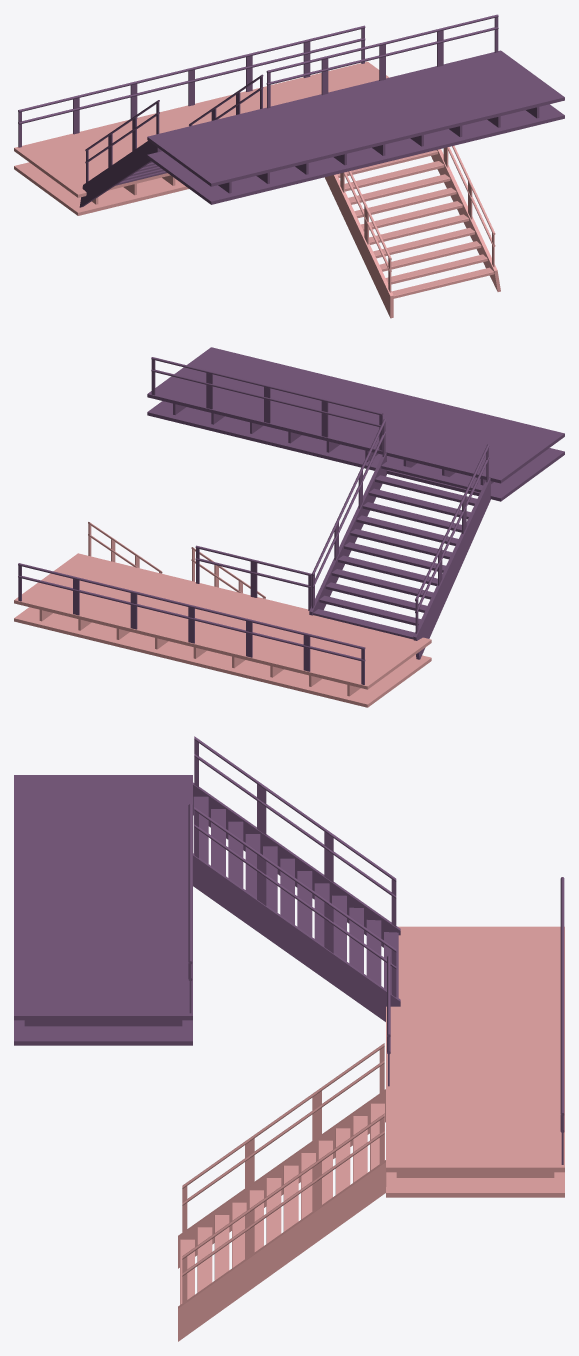
The model's file is meshset_bridge_nearwall.fbx.
3 views of the same model, one above another, from view 1: azimuth 30°, elevation 25°; view 2: azimuth 150°, elevation 25°; view 3: azimuth 270°, elevation 25° (orthographic). The views are drawn at different scales.
Parts seen in each view (by area): view 1: Bridge_set1; view 2: Bridge_set1; view 3: Bridge_set1.
Boxes of the visible parts, bbox=[...] form: Bridge_set1: bbox=[14, 14, 564, 318]; Bridge_set1: bbox=[14, 347, 564, 707]; Bridge_set1: bbox=[14, 736, 564, 1341].
Size of the model in its own units: 920 by 679 by 889.
